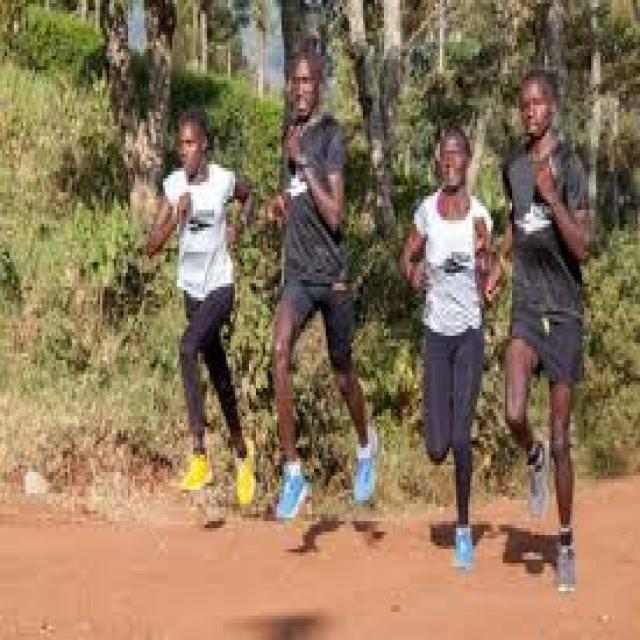running: (493, 66, 594, 594), (273, 44, 379, 528), (142, 102, 256, 522), (402, 122, 492, 578)
